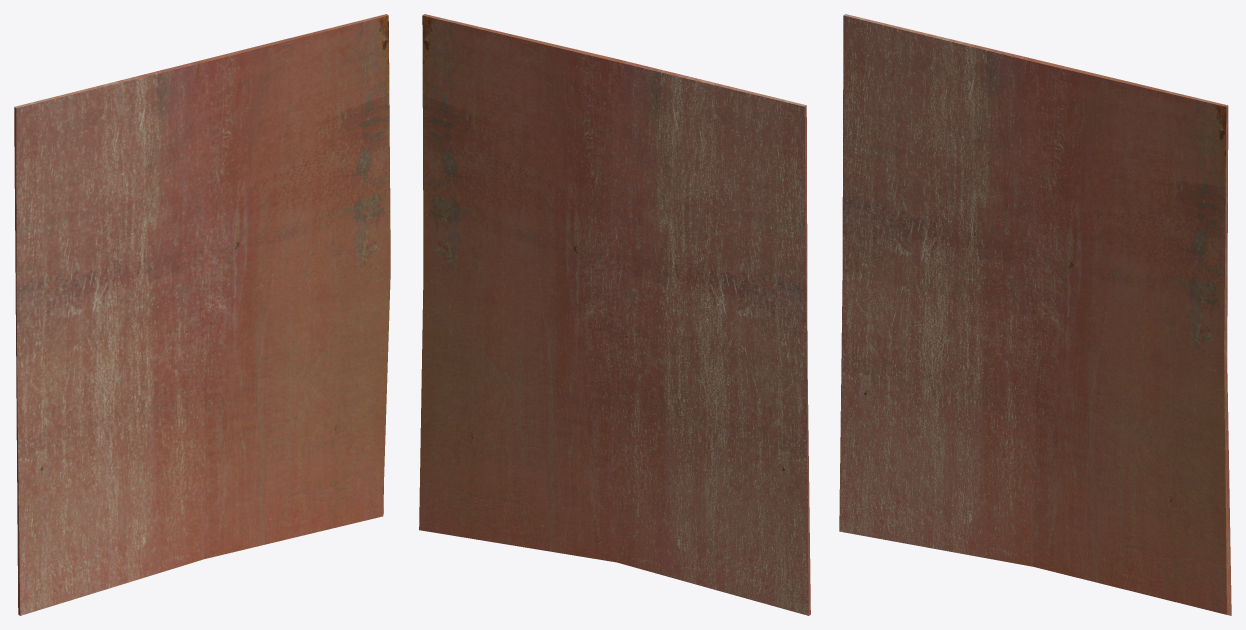
File: sheet metal.fbx
The picture shows the model from 3 angles, left to right: view 1: azimuth 30°, elevation 25°; view 2: azimuth 150°, elevation 25°; view 3: azimuth 330°, elevation 25°; orthographic projection.
Visible parts, largest first — view 1: Cube; view 2: Cube; view 3: Cube.
Boxes of the visible parts, left/top/right/bottom form: Cube: left=14, top=14, right=390, bottom=615; Cube: left=419, top=14, right=810, bottom=615; Cube: left=839, top=14, right=1231, bottom=615.
Size of the model in its own units: 92.46 by 119 by 4.87.
